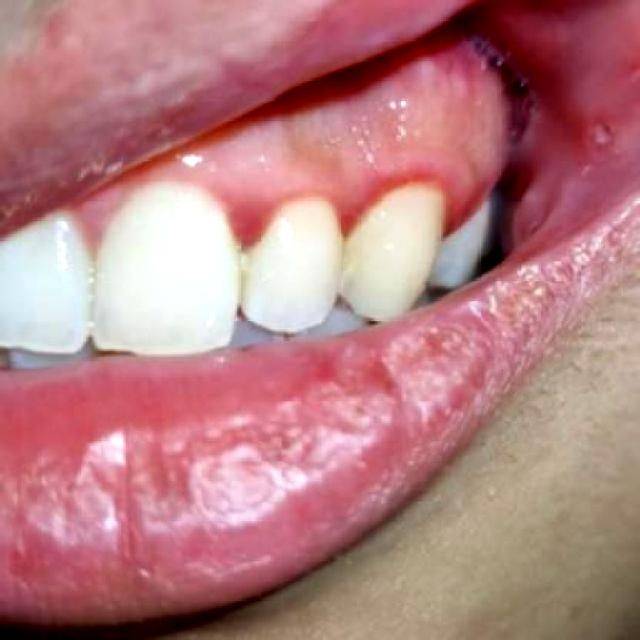Plaque: (73, 148, 496, 246)
